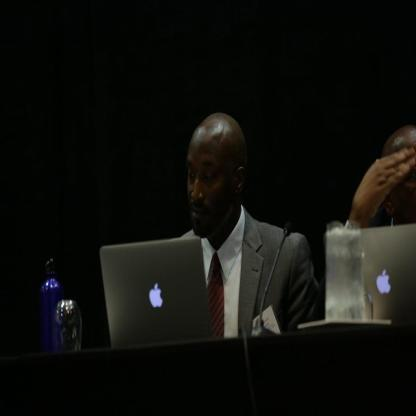board: (103, 224, 252, 363), (321, 222, 416, 326), (41, 259, 64, 355)
